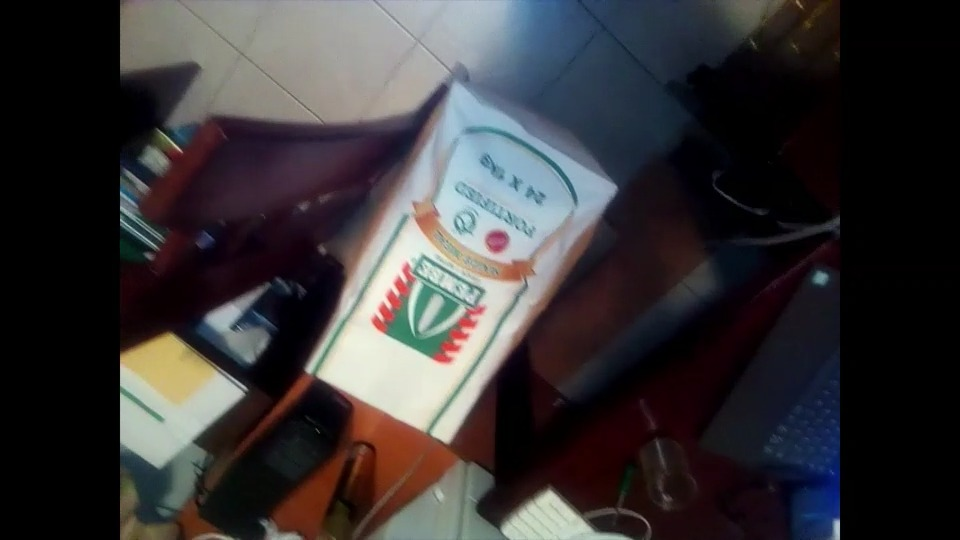maize_flour_green_label: (303, 83, 619, 446)
